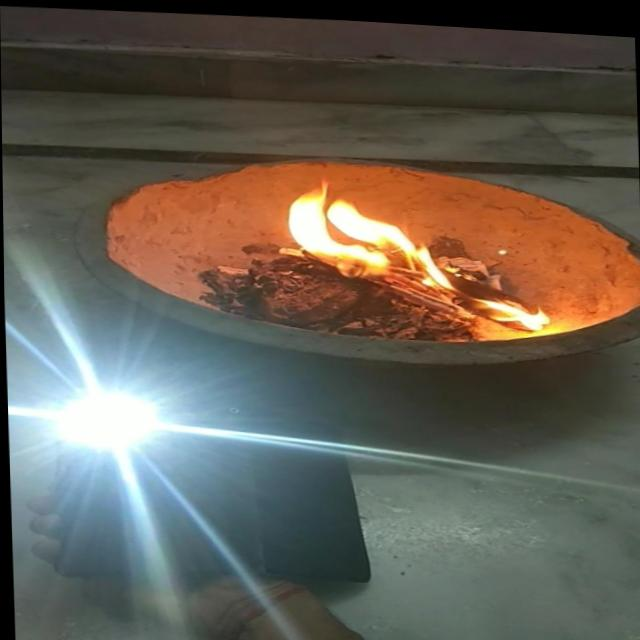fire: (273, 169, 553, 331)
